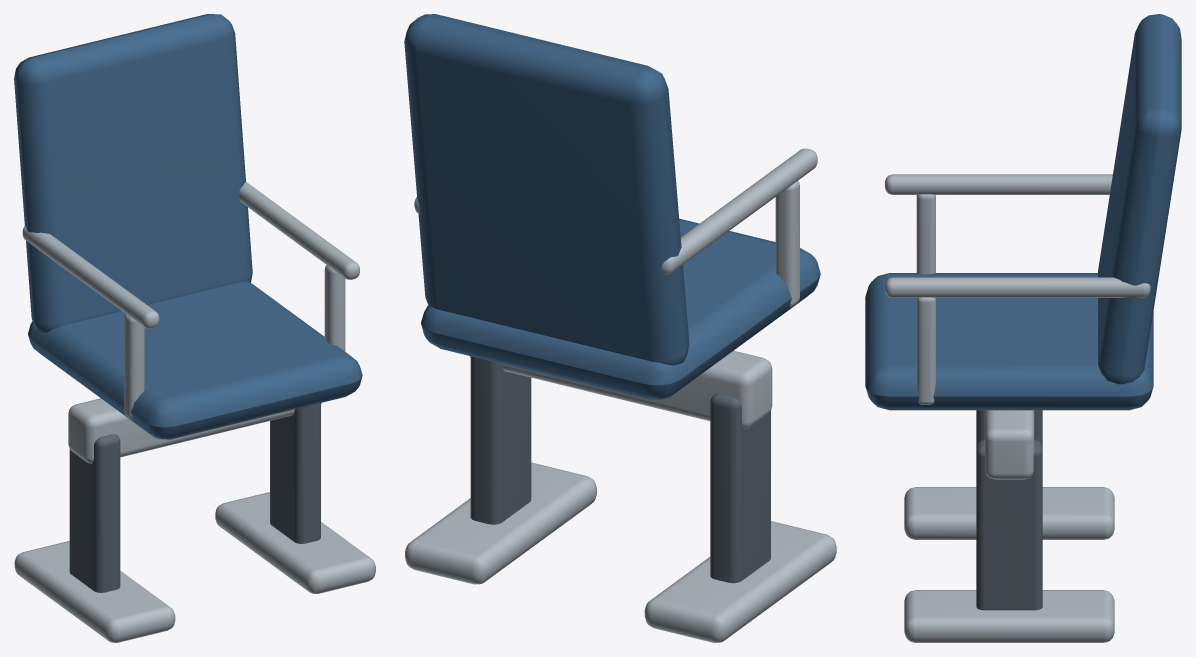
File: airport-seat.glb
3 views of the same model, side by side, from view 1: azimuth 30°, elevation 25°; view 2: azimuth 150°, elevation 25°; view 3: azimuth 270°, elevation 25° (orthographic). The views are drawn at different scales.
Parts seen in each view (by area): view 1: 软包靠背, 软包座面, 座椅支撑脚, 脚底, 脚底.001, 座椅支撑脚.001, 横向金属梁, 金属扶手, 金属扶手.001, 扶手立柱, 扶手立柱.001; view 2: 软包靠背, 软包座面, 脚底, 脚底.001, 座椅支撑脚, 座椅支撑脚.001, 横向金属梁, 金属扶手, 扶手立柱; view 3: 软包座面, 软包靠背, 脚底.001, 座椅支撑脚.001, 脚底, 金属扶手.001, 金属扶手, 横向金属梁, 扶手立柱.001, 扶手立柱, 座椅支撑脚.
Boxes of the visible parts, left/top/right/bottom form: 软包靠背: left=14, top=14, right=252, bottom=332; 软包座面: left=28, top=281, right=362, bottom=439; 座椅支撑脚: left=69, top=434, right=120, bottom=592; 脚底: left=14, top=541, right=175, bottom=642; 脚底.001: left=215, top=492, right=375, bottom=593; 座椅支撑脚.001: left=270, top=403, right=320, bottom=543; 横向金属梁: left=68, top=398, right=321, bottom=463; 金属扶手: left=22, top=226, right=159, bottom=328; 金属扶手.001: left=239, top=182, right=359, bottom=279; 扶手立柱: left=124, top=314, right=144, bottom=419; 扶手立柱.001: left=324, top=265, right=345, bottom=351; 软包靠背: left=404, top=14, right=689, bottom=365; 软包座面: left=421, top=218, right=820, bottom=399; 脚底: left=644, top=521, right=836, bottom=642; 脚底.001: left=405, top=462, right=596, bottom=584; 座椅支撑脚: left=710, top=393, right=770, bottom=583; 座椅支撑脚.001: left=470, top=356, right=531, bottom=524; 横向金属梁: left=470, top=350, right=772, bottom=428; 金属扶手: left=661, top=148, right=817, bottom=274; 扶手立柱: left=775, top=181, right=799, bottom=306; 软包座面: left=865, top=273, right=1153, bottom=410; 软包靠背: left=1098, top=14, right=1181, bottom=384; 脚底.001: left=904, top=590, right=1114, bottom=642; 座椅支撑脚.001: left=976, top=439, right=1042, bottom=610; 脚底: left=904, top=487, right=1114, bottom=539; 金属扶手.001: left=885, top=277, right=1150, bottom=297; 金属扶手: left=885, top=174, right=1112, bottom=194; 横向金属梁: left=984, top=410, right=1034, bottom=479; 扶手立柱.001: left=916, top=297, right=935, bottom=404; 扶手立柱: left=916, top=194, right=935, bottom=274; 座椅支撑脚: left=976, top=410, right=1042, bottom=446.
Size of the model in its own units: 0.59 by 1.04 by 0.5705.
